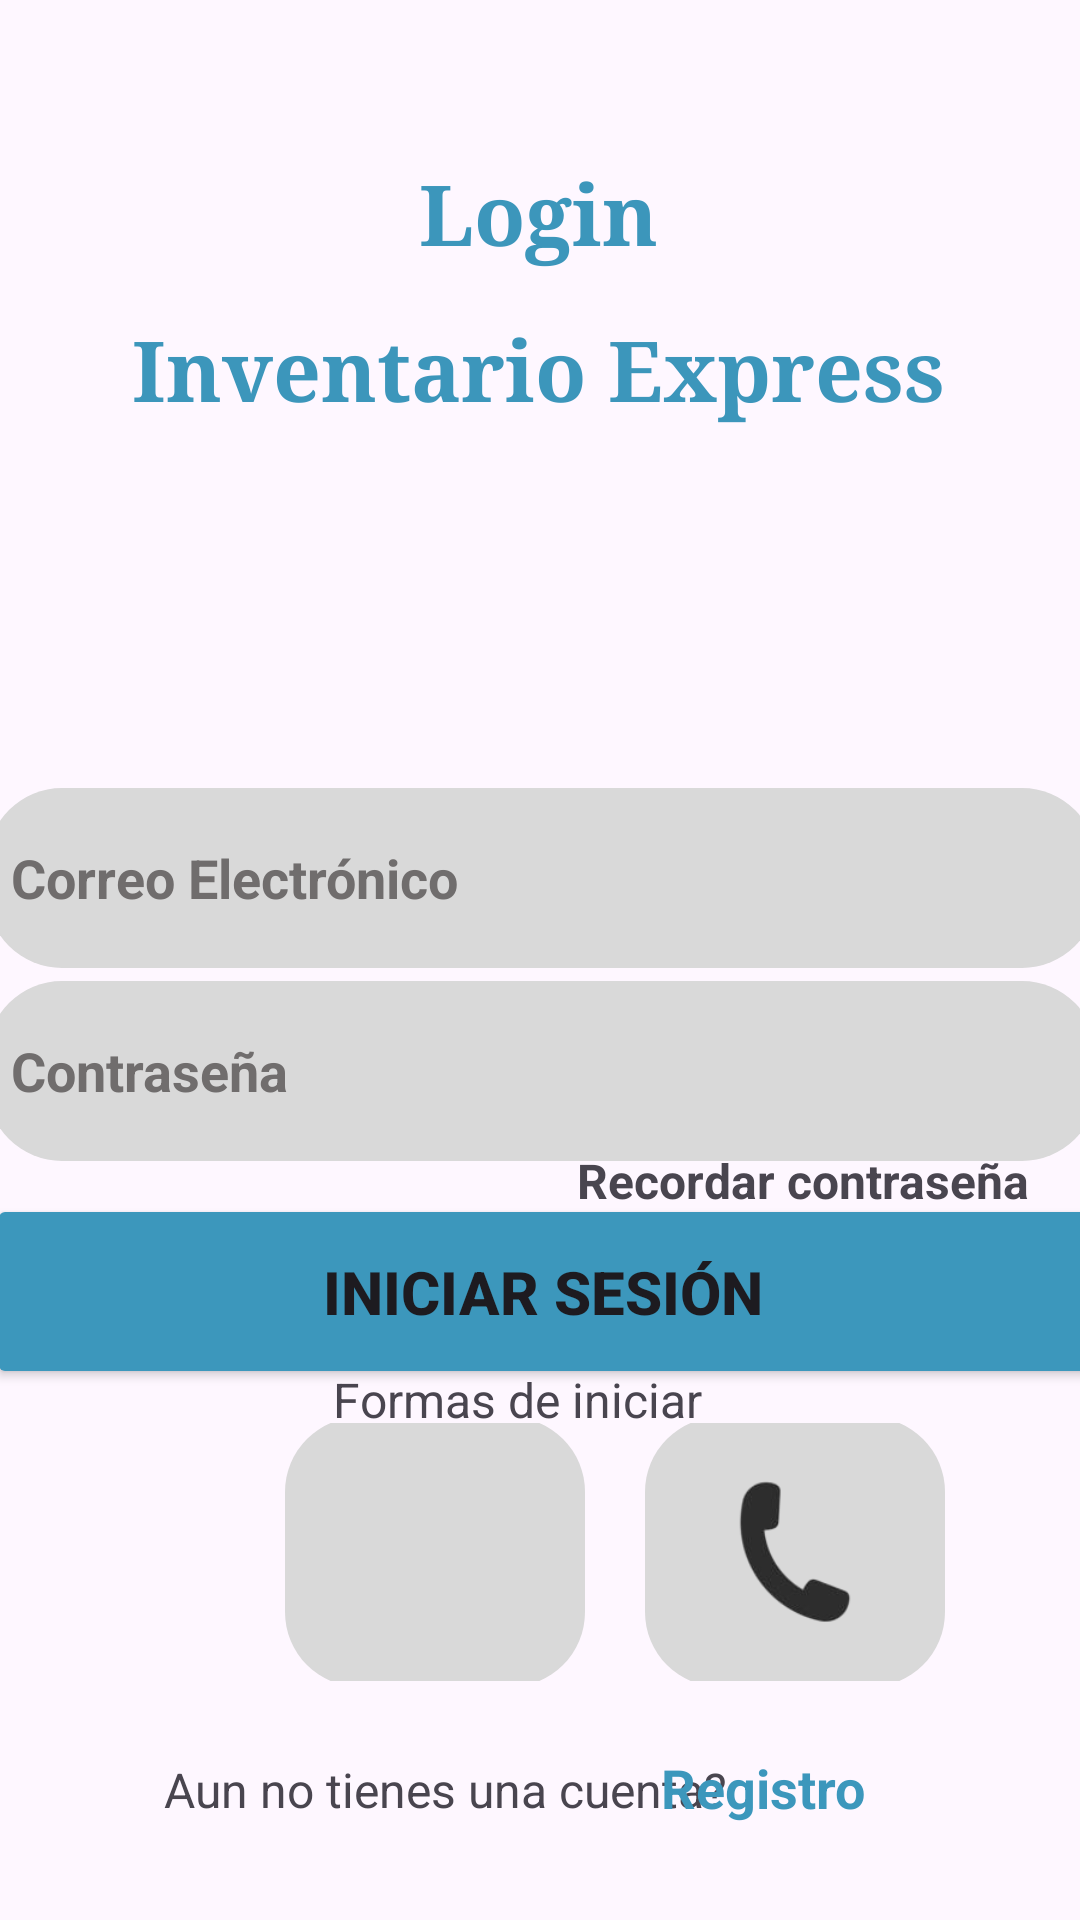

Icon click points for this 1080px×1920px phone screenshot, format [x,y]:
llamada: [795,1552]
